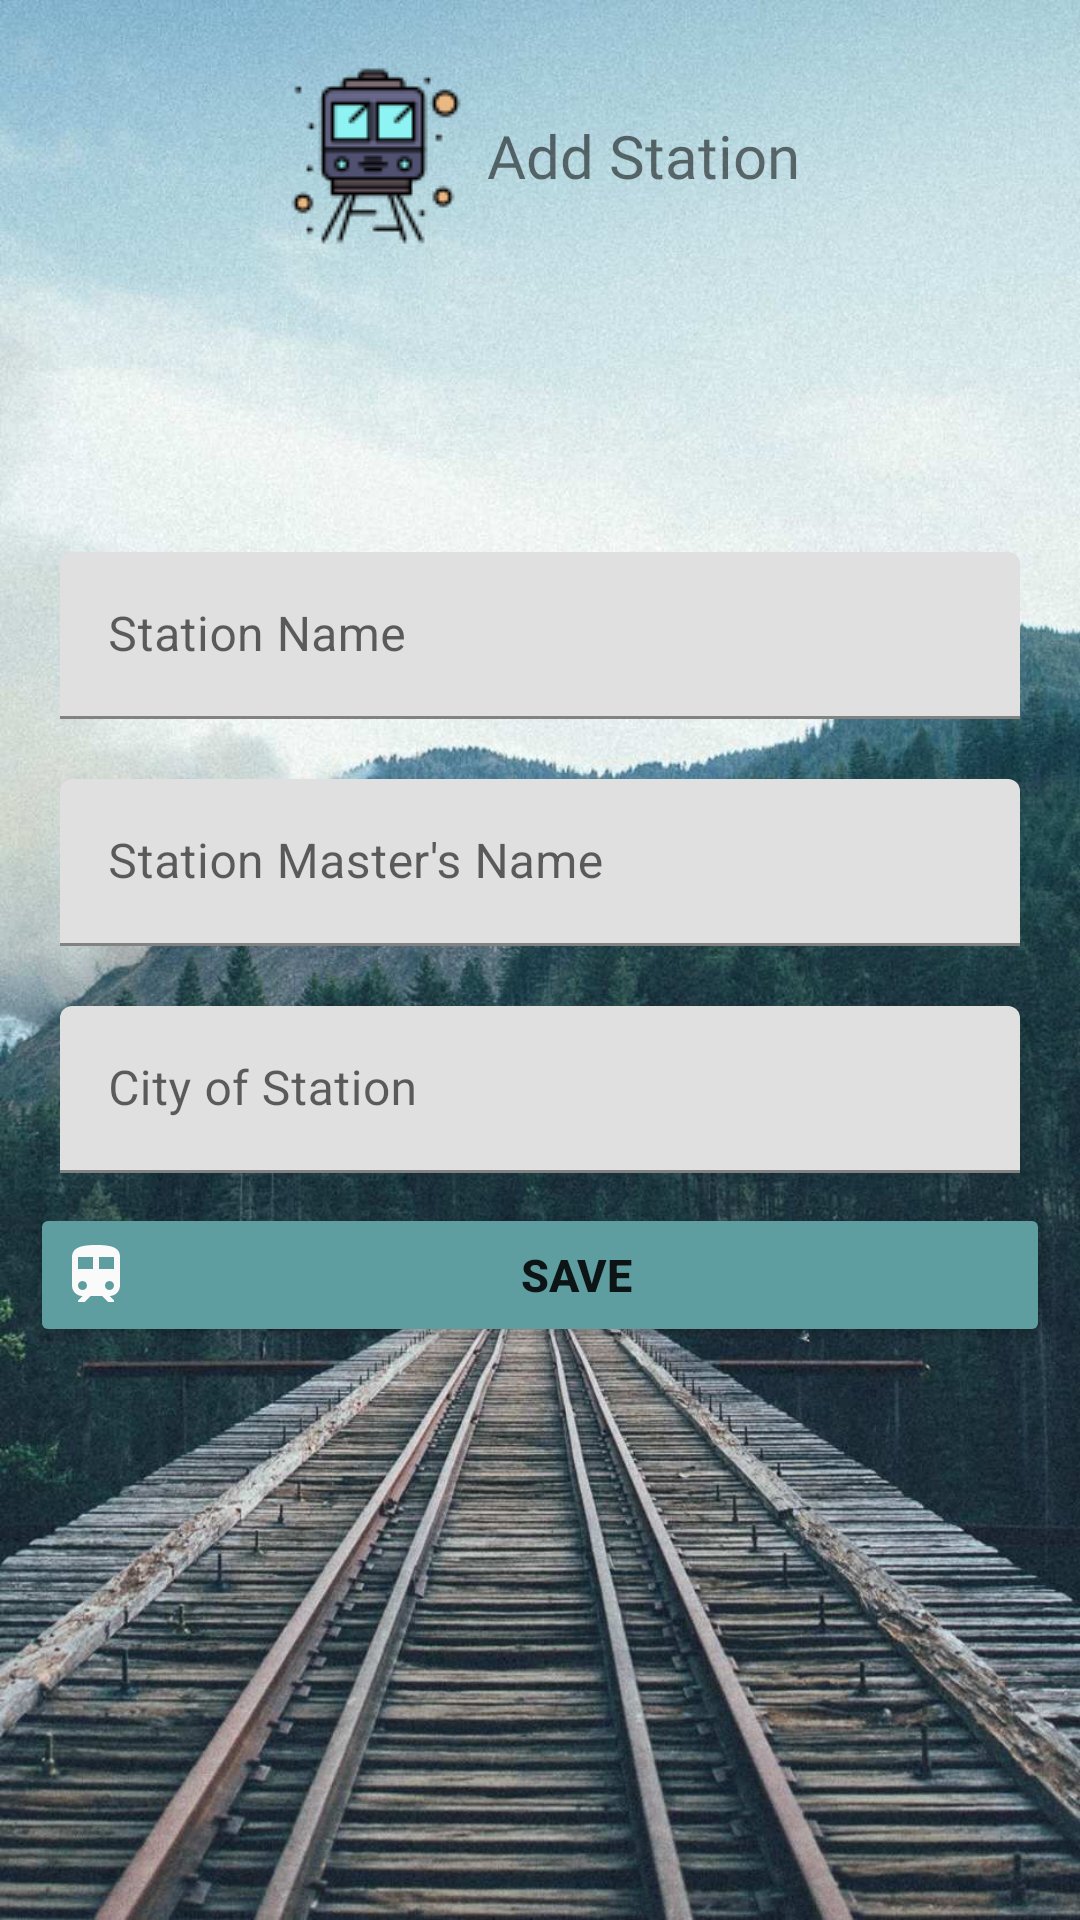

Where to tap for icons on this 1080*1920 app screen, as (x=x, y=y):
toast train: (x=376, y=156)
